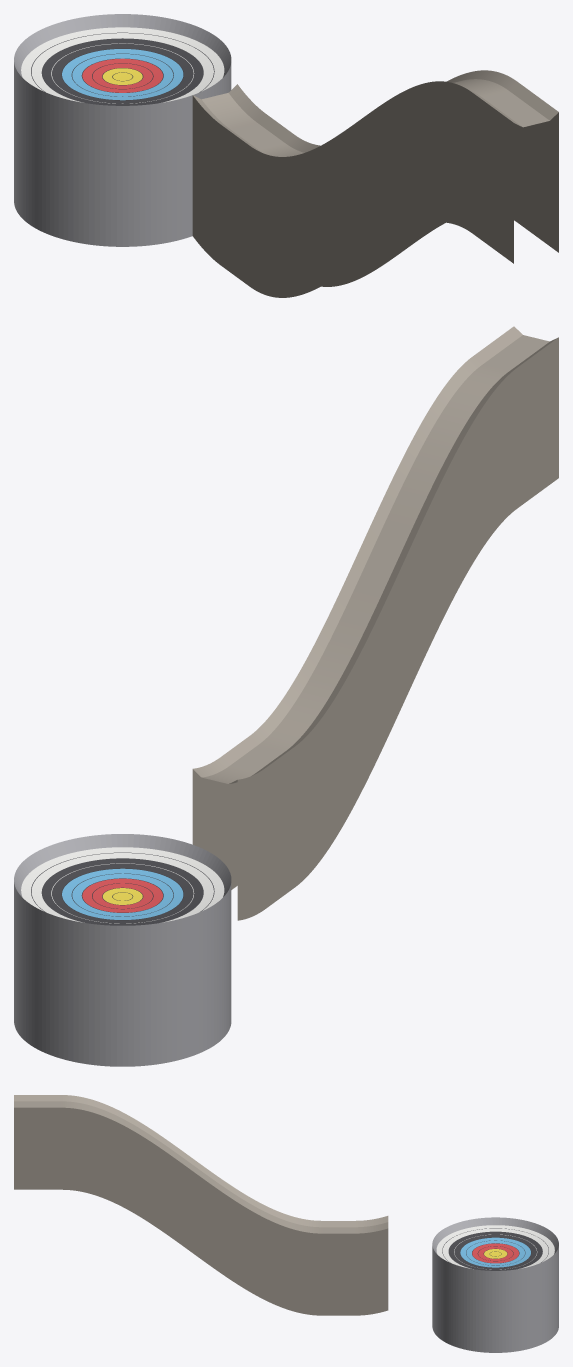
Rendered from bullseye.fbx.
The picture shows the model from 3 angles, top to bottom: view 1: azimuth 30°, elevation 25°; view 2: azimuth 150°, elevation 25°; view 3: azimuth 270°, elevation 25°; orthographic projection. The views are drawn at different scales.
Parts seen in each view (by area): view 1: BoardWire, RunUp00, RunUp05, RunUp03, RunUp01, RunUp04, RunUp02, BoardWhite, BoardBlack, BoardBlue, RunUp06, BoardRed (+2 smaller); view 2: BoardWire, RunUp02, RunUp03, RunUp05, RunUp01, RunUp04, RunUp00, BoardWhite, BoardBlack, BoardBlue, RunUp06, BoardRed (+1 smaller); view 3: BoardWire, RunUp05, RunUp02, RunUp04, RunUp03, RunUp01, RunUp00, BoardWhite, BoardBlack, RunUp06, BoardBlue, BoardRed (+1 smaller).
Part boxes in pixels (bbox=[...]): BoardWire: bbox=[14, 14, 231, 246]; RunUp00: bbox=[462, 75, 558, 263]; RunUp05: bbox=[203, 97, 299, 289]; RunUp03: bbox=[306, 121, 403, 292]; RunUp01: bbox=[410, 70, 506, 228]; RunUp04: bbox=[254, 138, 351, 297]; RunUp02: bbox=[358, 77, 454, 261]; BoardWhite: bbox=[21, 27, 224, 103]; BoardBlack: bbox=[41, 38, 203, 105]; BoardBlue: bbox=[62, 49, 183, 100]; RunUp06: bbox=[192, 84, 247, 248]; BoardRed: bbox=[82, 58, 162, 92]; BoardWire: bbox=[14, 834, 231, 1066]; RunUp02: bbox=[358, 443, 455, 703]; RunUp03: bbox=[307, 552, 403, 809]; RunUp05: bbox=[203, 732, 299, 918]; RunUp01: bbox=[410, 365, 506, 594]; RunUp04: bbox=[255, 659, 351, 883]; RunUp00: bbox=[462, 326, 558, 516]; BoardWhite: bbox=[21, 847, 224, 923]; BoardBlack: bbox=[41, 858, 203, 925]; BoardBlue: bbox=[62, 868, 183, 919]; RunUp06: bbox=[192, 766, 247, 920]; BoardRed: bbox=[82, 878, 162, 912]; BoardWire: bbox=[432, 1217, 558, 1352]; RunUp05: bbox=[315, 1219, 376, 1315]; RunUp02: bbox=[134, 1119, 194, 1254]; RunUp04: bbox=[255, 1200, 315, 1315]; RunUp03: bbox=[195, 1160, 255, 1294]; RunUp01: bbox=[74, 1096, 134, 1213]; RunUp00: bbox=[14, 1095, 74, 1190]; BoardWhite: bbox=[436, 1225, 554, 1269]; BoardBlack: bbox=[448, 1231, 542, 1270]; RunUp06: bbox=[376, 1216, 388, 1313]; BoardBlue: bbox=[460, 1237, 530, 1267]; BoardRed: bbox=[472, 1243, 519, 1263].
Bounding box in the file's own units: 20972 × 41100 × 90286.
